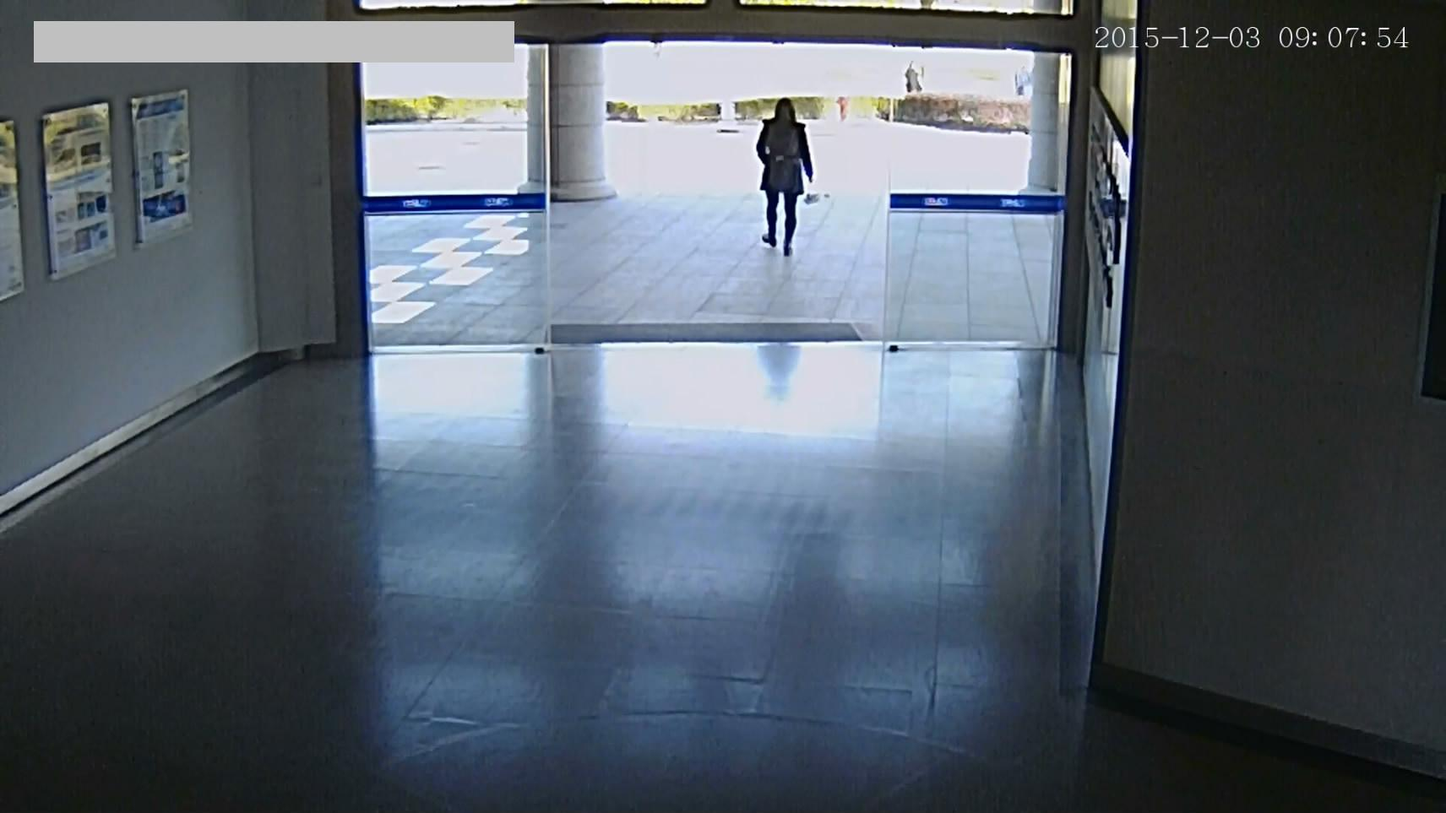person: (743, 87, 829, 257)
